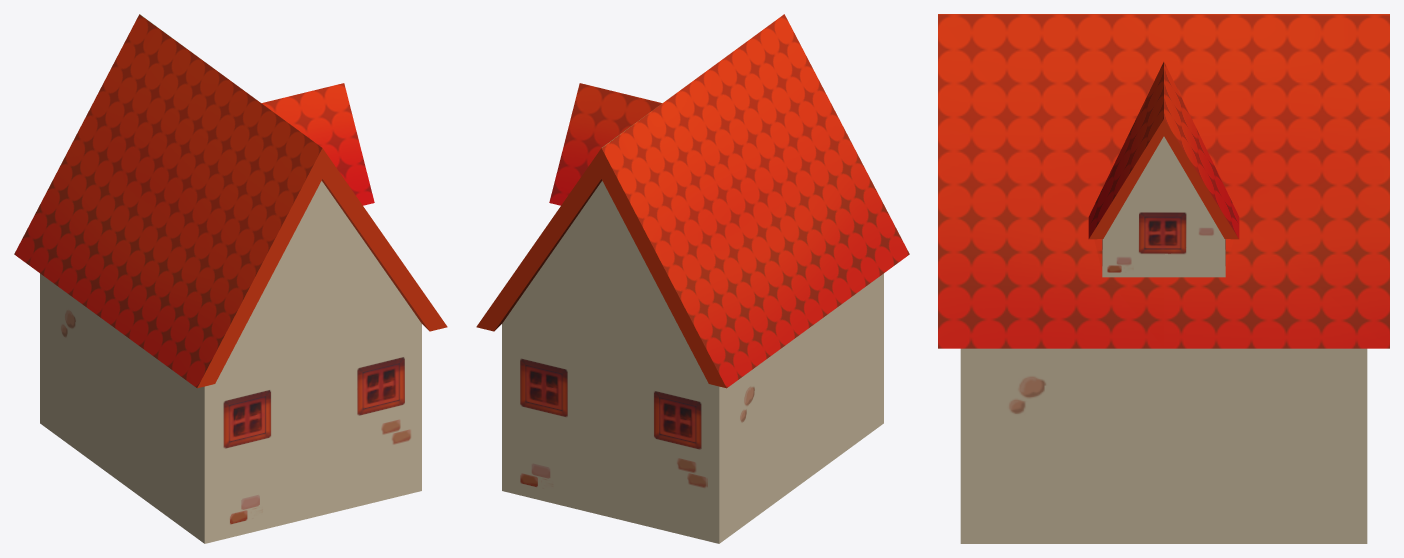
Rendered from house 3.FBX.
The picture shows the model from 3 angles, left to right: view 1: azimuth 30°, elevation 25°; view 2: azimuth 150°, elevation 25°; view 3: azimuth 270°, elevation 25°; orthographic projection. The views are drawn at different scales.
Visible parts, largest first — view 1: Object004; view 2: Object004; view 3: Object004.
Part boxes in pixels (x1,y1,x2,y2): Object004: (14,14,447,543); Object004: (476,14,909,543); Object004: (938,14,1389,543).
Size of the model in its own units: 46 by 65.98 by 58.17.
Materials: 1 (1 with a texture image).
